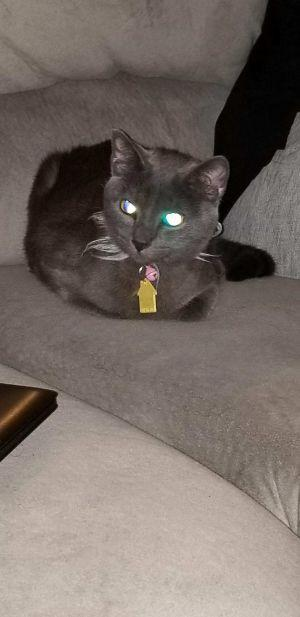rblue: (96, 125, 237, 280)
